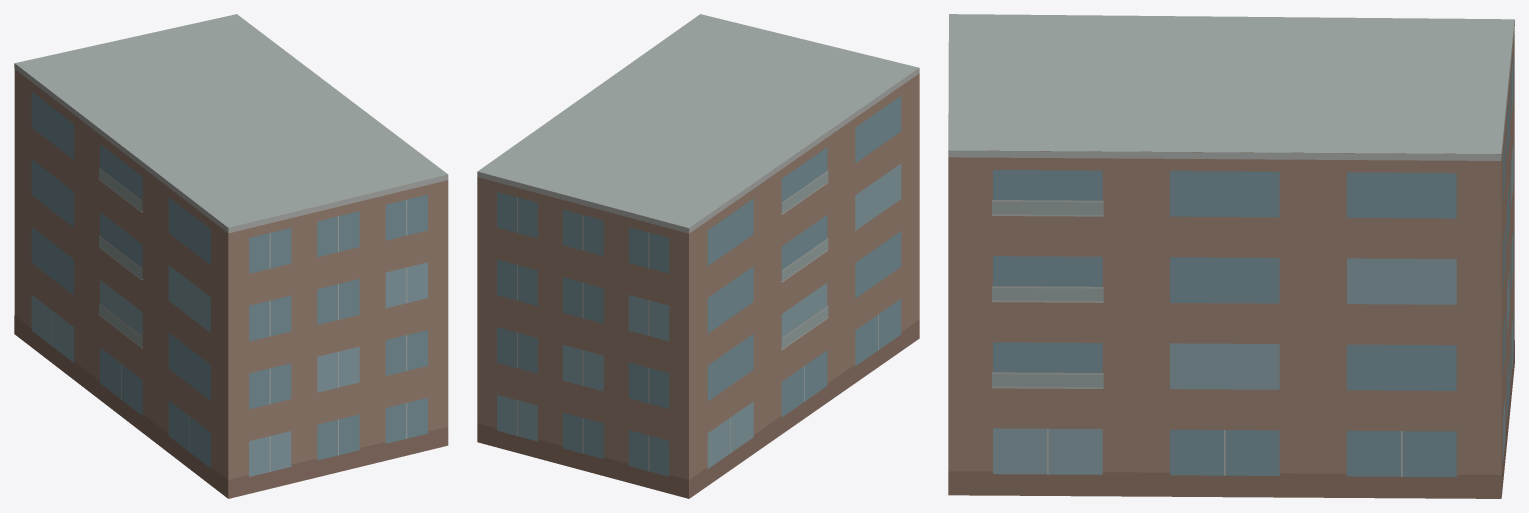
Rendered from survey-upis-32769326.glb.
3 renders of one model, left to right at view 1: azimuth 30°, elevation 25°; view 2: azimuth 150°, elevation 25°; view 3: azimuth 270°, elevation 25°, orthographic. The views are drawn at different scales.
Visible parts, largest first — view 1: survey-upis-32769326.tmp; view 2: survey-upis-32769326.tmp; view 3: survey-upis-32769326.tmp.
Part boxes in pixels (box(x1,y1,x2,y2)): survey-upis-32769326.tmp: box(14, 14, 448, 498); survey-upis-32769326.tmp: box(477, 14, 919, 498); survey-upis-32769326.tmp: box(948, 14, 1514, 498).
Bounding box in the file's own units: 10.55 × 12.1 × 18.03.
